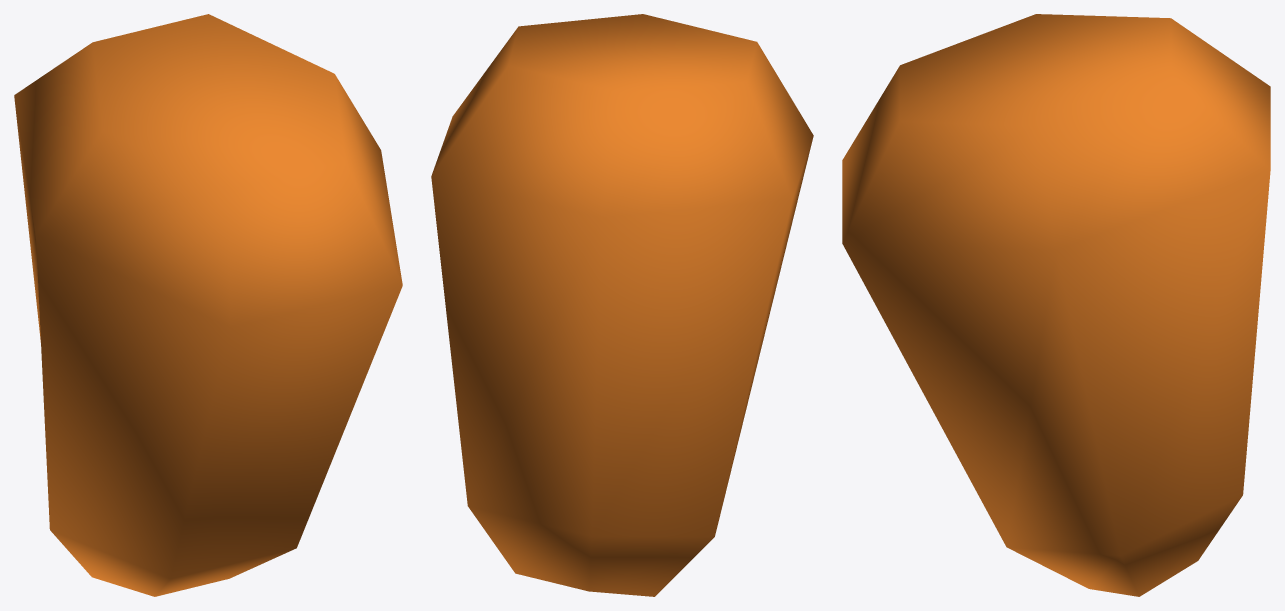
File: Char_FL_MG_Body3.FBX
The picture shows the model from 3 angles, left to right: view 1: azimuth 30°, elevation 25°; view 2: azimuth 150°, elevation 25°; view 3: azimuth 270°, elevation 25°; orthographic projection.
Parts seen in each view (by area): view 1: Cylinder008; view 2: Cylinder008; view 3: Cylinder008.
Boxes of the visible parts, x1,y1,x2,y2 form: Cylinder008: [14, 14, 402, 596]; Cylinder008: [431, 14, 813, 596]; Cylinder008: [842, 14, 1270, 596].
Bounding box in the file's own units: 15.87 × 23.24 × 17.19.
